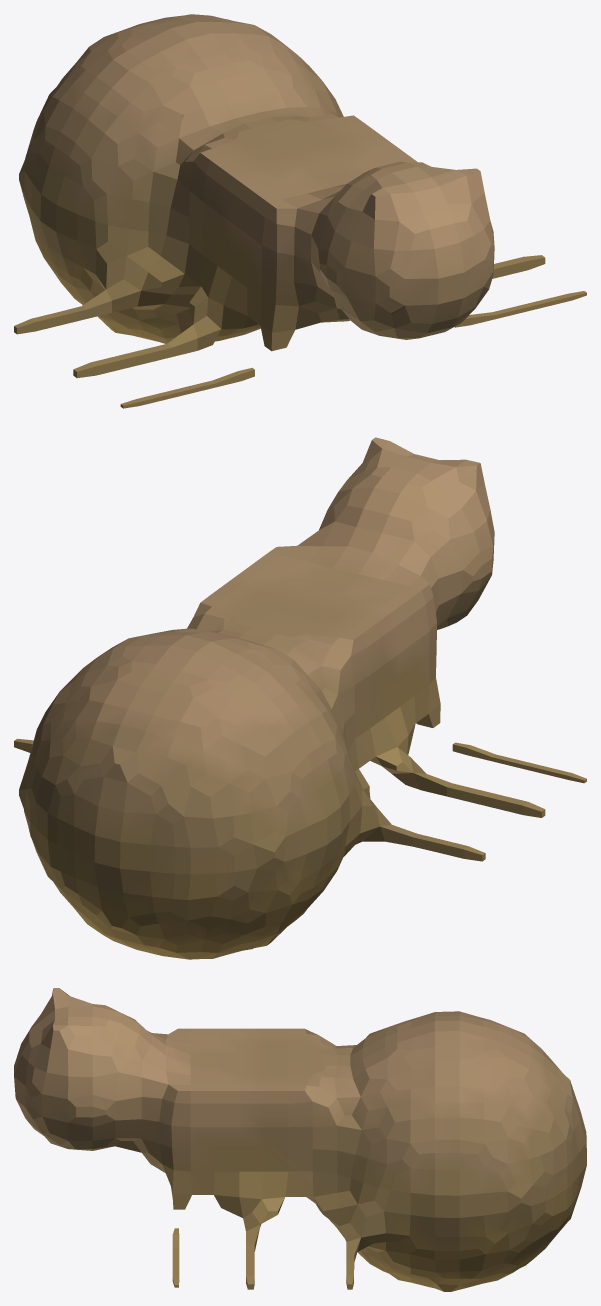
File: mantisWarrior.glb
3 renders of one model, top to bottom at view 1: azimuth 30°, elevation 25°; view 2: azimuth 150°, elevation 25°; view 3: azimuth 270°, elevation 25°, orthographic. The views are drawn at different scales.
Visible parts, largest first — view 1: geometry_0; view 2: geometry_0; view 3: geometry_0.
Part boxes in pixels (x1,y1,x2,y2): geometry_0: (14, 14, 586, 408); geometry_0: (14, 437, 586, 959); geometry_0: (14, 988, 586, 1291).
Size of the model in its own units: 1.3 by 0.8487 by 1.66.
Materials: 1 (1 with a texture image).
